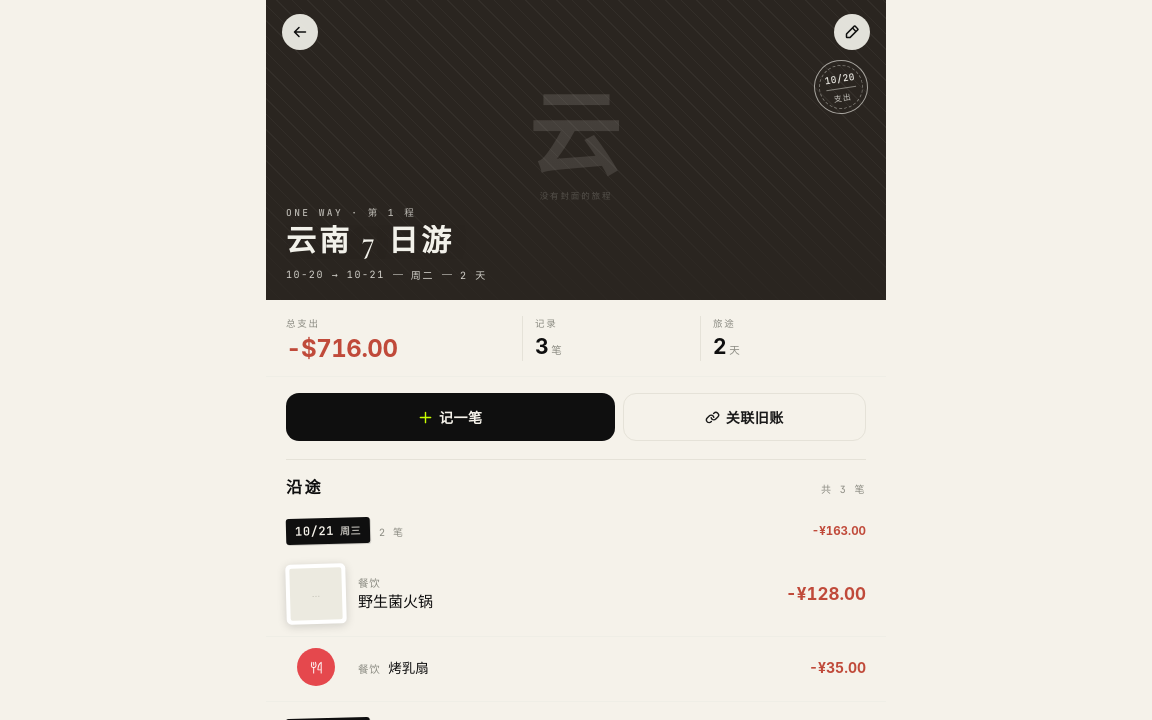
JourneyDetailPage · 记录区 › 点击记录行打开编辑弹窗并回填所属一程
The image size is (1152, 720).
Click the button "… 餐饮 野生菌火锅 -¥128.00".
click(396, 602)  # box [266,552,886,637]
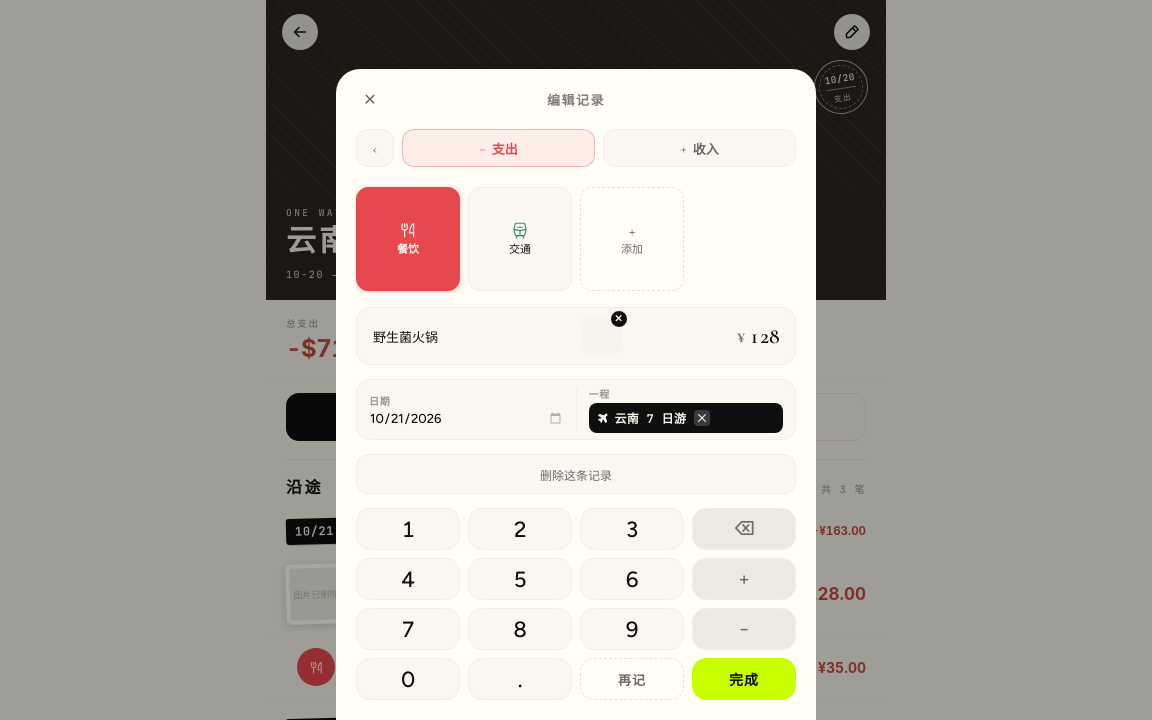
Expected: the text "云南 7 日游" is shown, [286,223,454,260]
Now the text "编辑记录" is shown, box [547,90,605,108]
